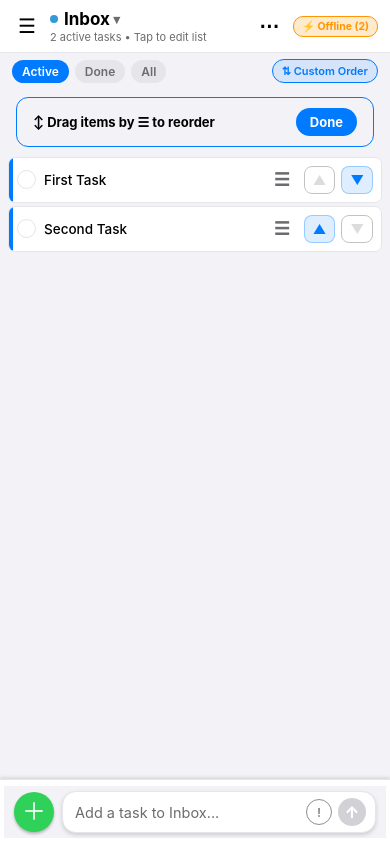
Test: ProjectTasksScreen › enters reorder mode on task long press, swaps items up/down, and exits on Done
Expected: the text "↕ Drag items by ☰ to reorder" is shown, [33,114,215,130]
Expected: the element with test id "drag-handle-101" is shown, [274,169,290,190]
// Tap Done
What coordinates should you click on to do the following:
click the element with test id "reorder-done-btn"
I would click on:
 (326, 122)
Its box is [296,108,357,136].
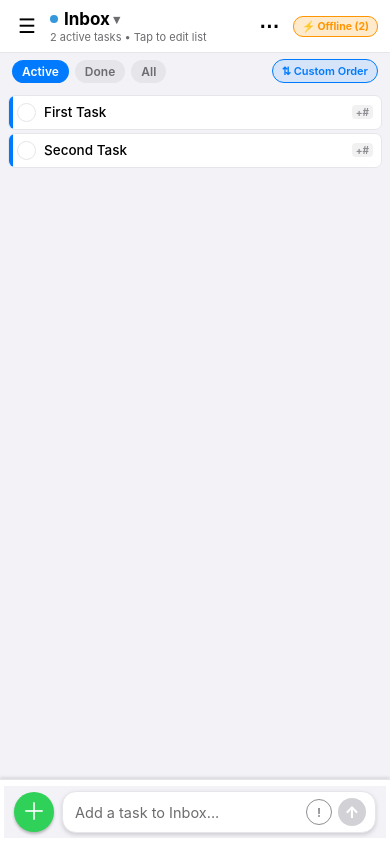
Expected: the element with test id "reorder-done-btn" is gone
